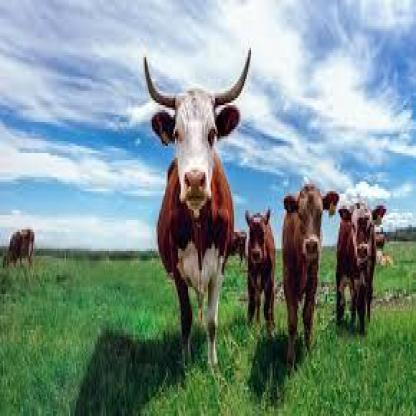cow: (150, 87, 240, 367), (281, 183, 343, 360), (336, 204, 386, 341), (244, 210, 278, 326), (4, 227, 36, 268), (222, 232, 253, 256)
